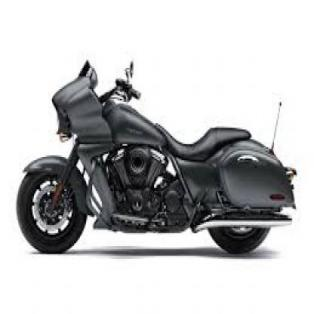Motocicleta: (13, 61, 298, 261)
